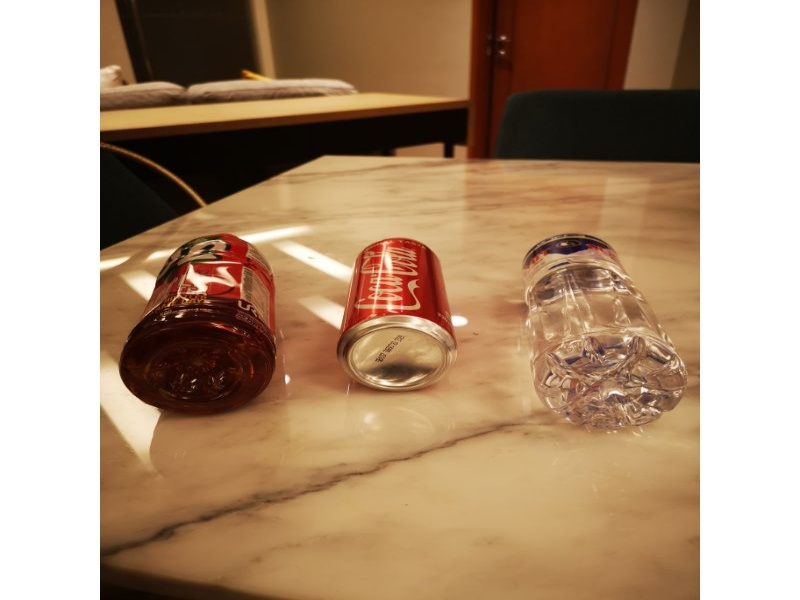PET #1: (523, 227, 689, 438), (116, 234, 287, 416)
